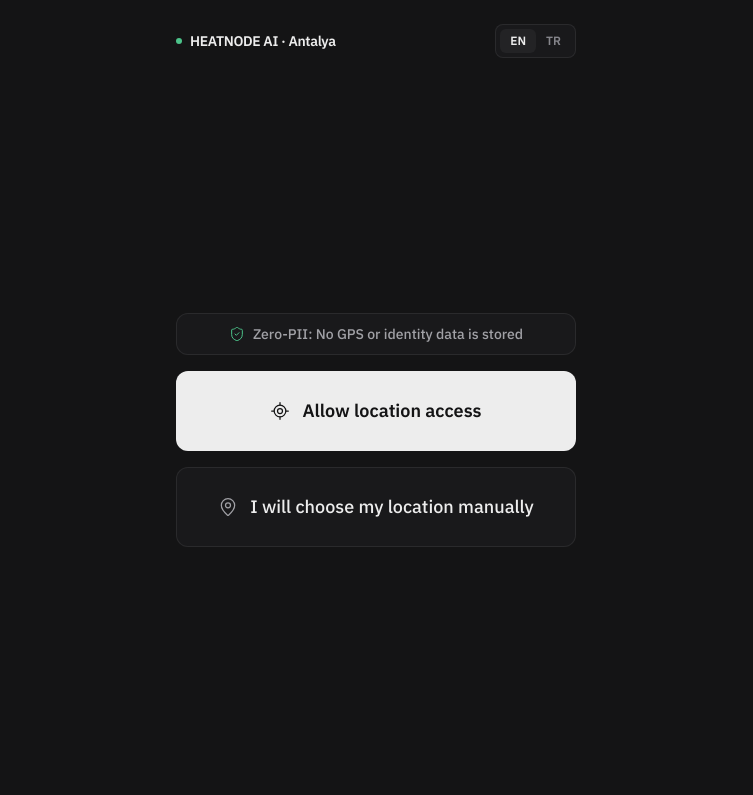
Heatnode PWA Flow › renders unified live S06 map with color legend, no score/refresh UI, and Return to main choice button
Step 1. Click the button "Allow location access" → {"x": 376, "y": 411}, box [176,371,576,451]
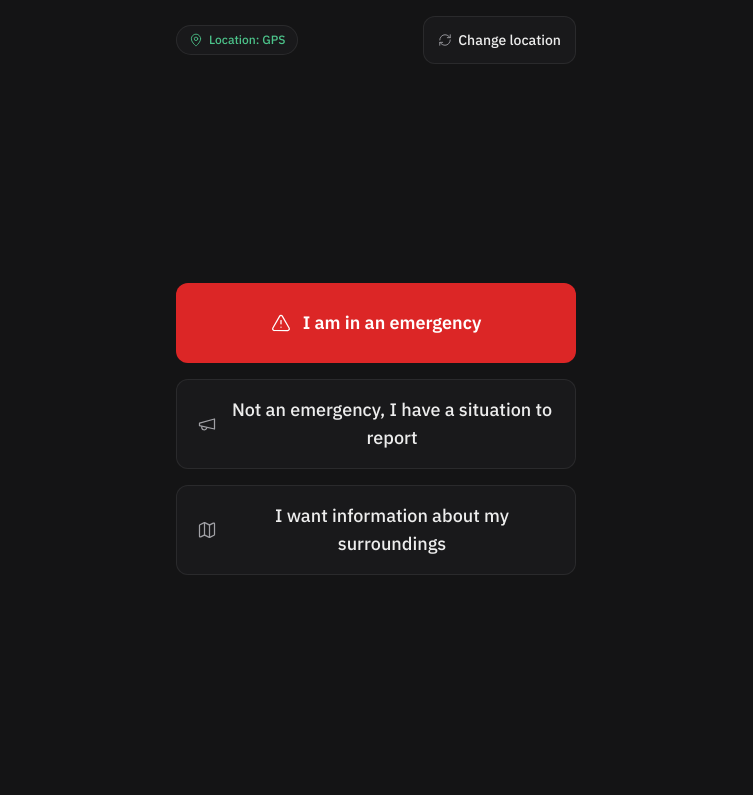
Step 2. Click the button "I want information about my surroundings" → {"x": 376, "y": 530}, box [176,485,576,575]
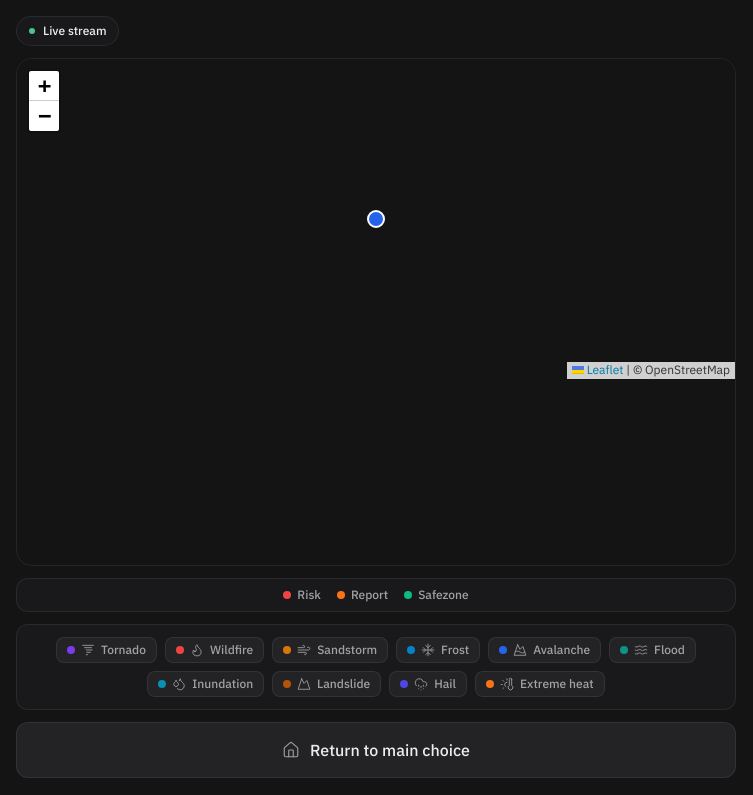
Expected: the text "Live stream" is shown, [43,23,106,39]
Expected: the text "Tornado" is shown, [101,642,146,658]
Expected: the text "Wildfire" is shown, [210,642,253,658]
Step 3. Click the button "Return to main choice" → {"x": 376, "y": 750}, box [16,722,736,778]
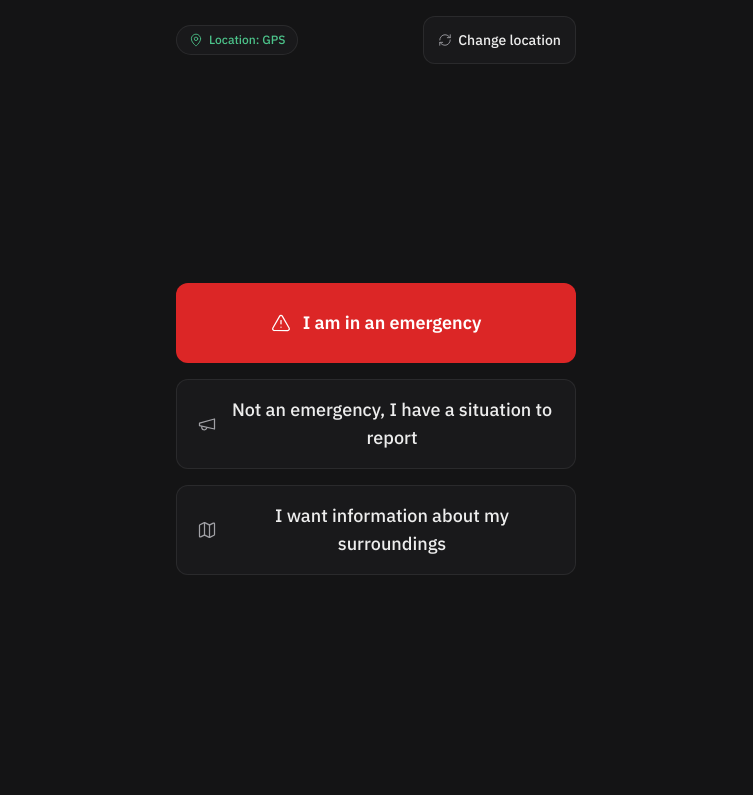
Expected: the text "I am in an emergency" is shown, [303,309,481,337]
